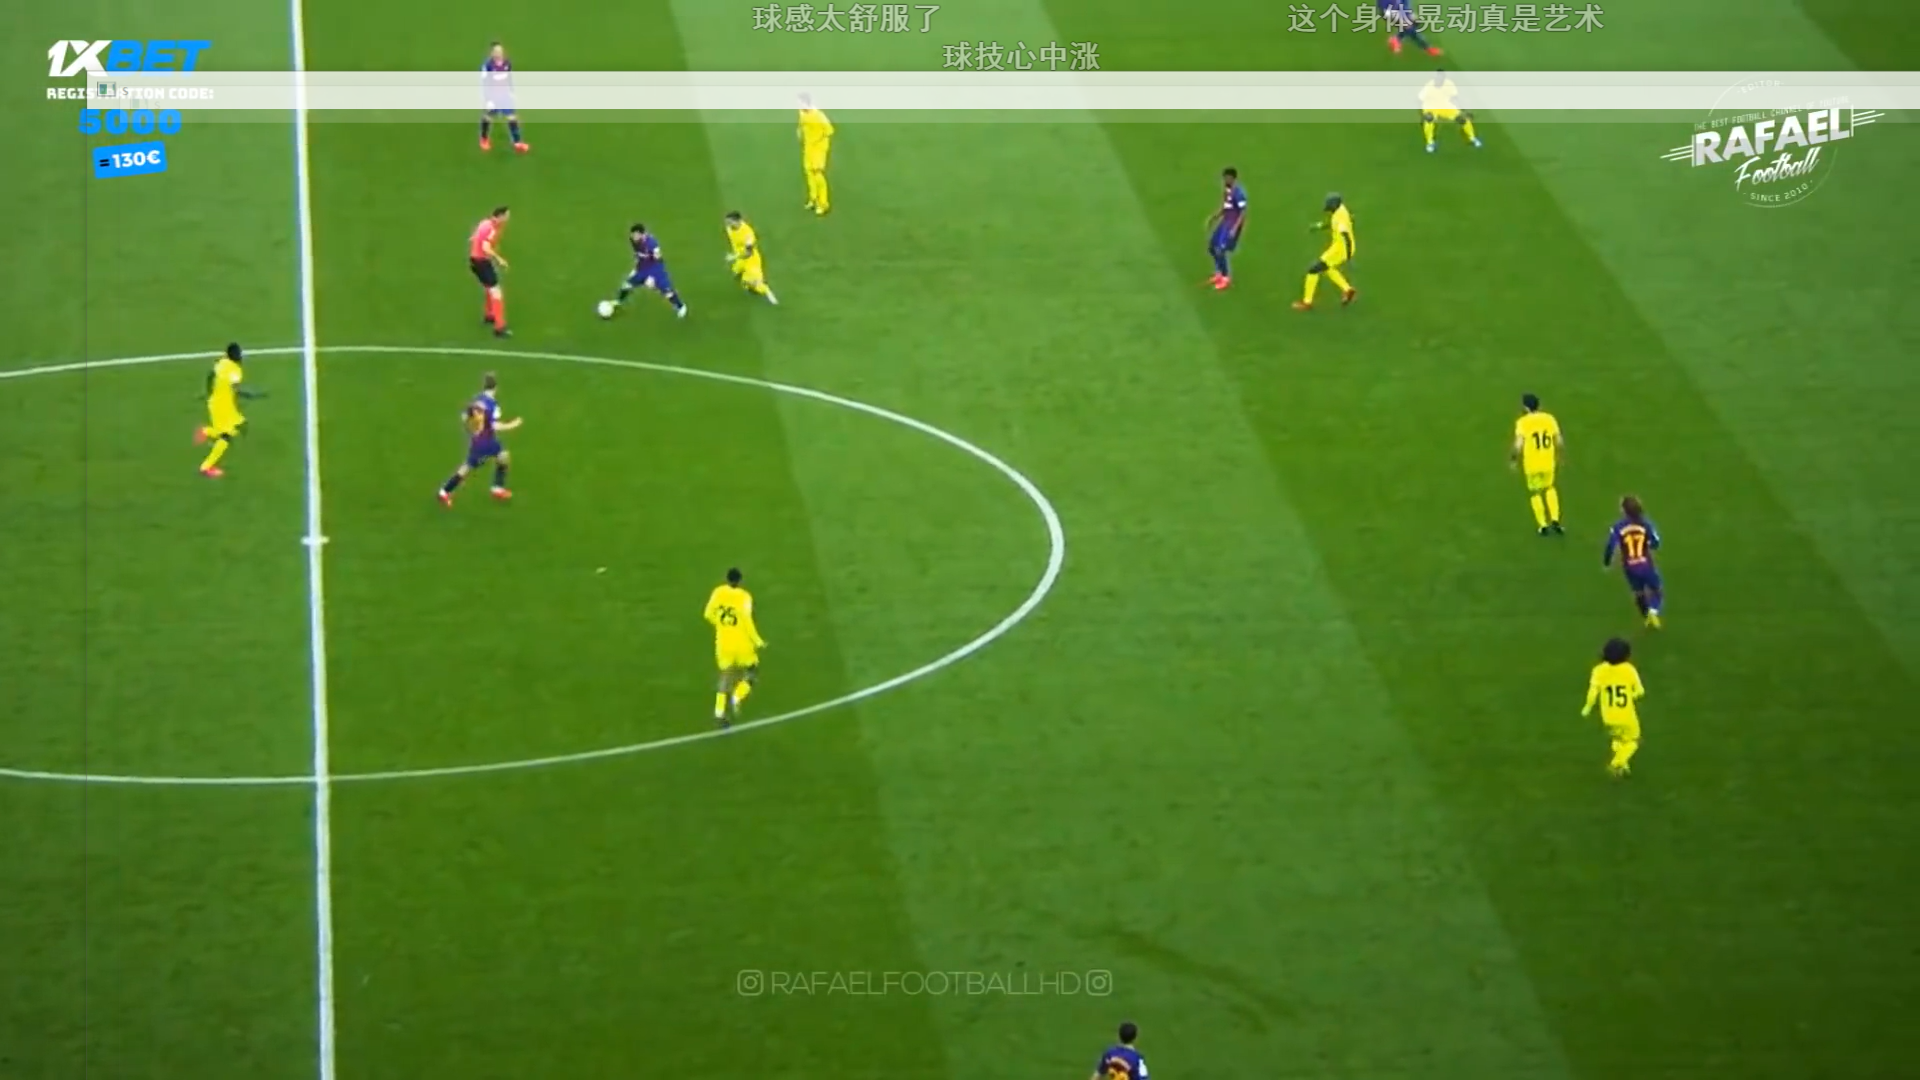ft: (595, 298, 616, 320)
